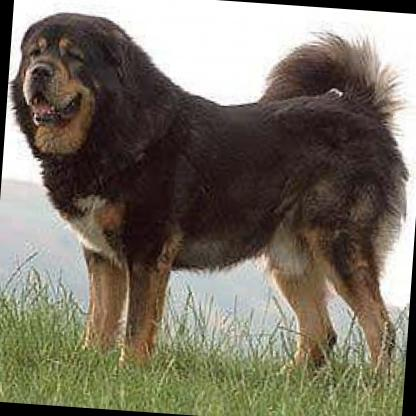Tibetan_mastiff: (0, 7, 416, 386)
